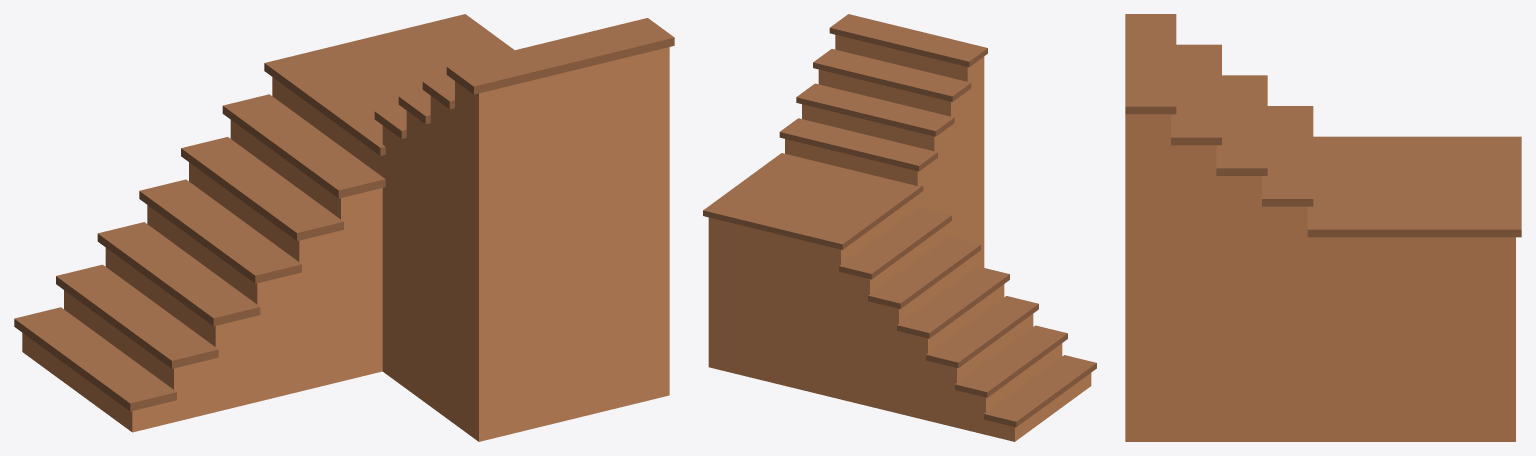
The model's file is stairsCorner.dae.
3 renders of one model, left to right at view 1: azimuth 30°, elevation 25°; view 2: azimuth 150°, elevation 25°; view 3: azimuth 270°, elevation 25°, orthographic. The views are drawn at different scales.
Visible parts, largest first — view 1: stairsCorner; view 2: stairsCorner; view 3: stairsCorner.
Part boxes in pixels (<box>): stairsCorner: <box>14,14,674,441</box>; stairsCorner: <box>703,14,1096,441</box>; stairsCorner: <box>1125,14,1521,441</box>.
Bounding box in the file's own units: 1.77 × 1.34 × 1.43.
